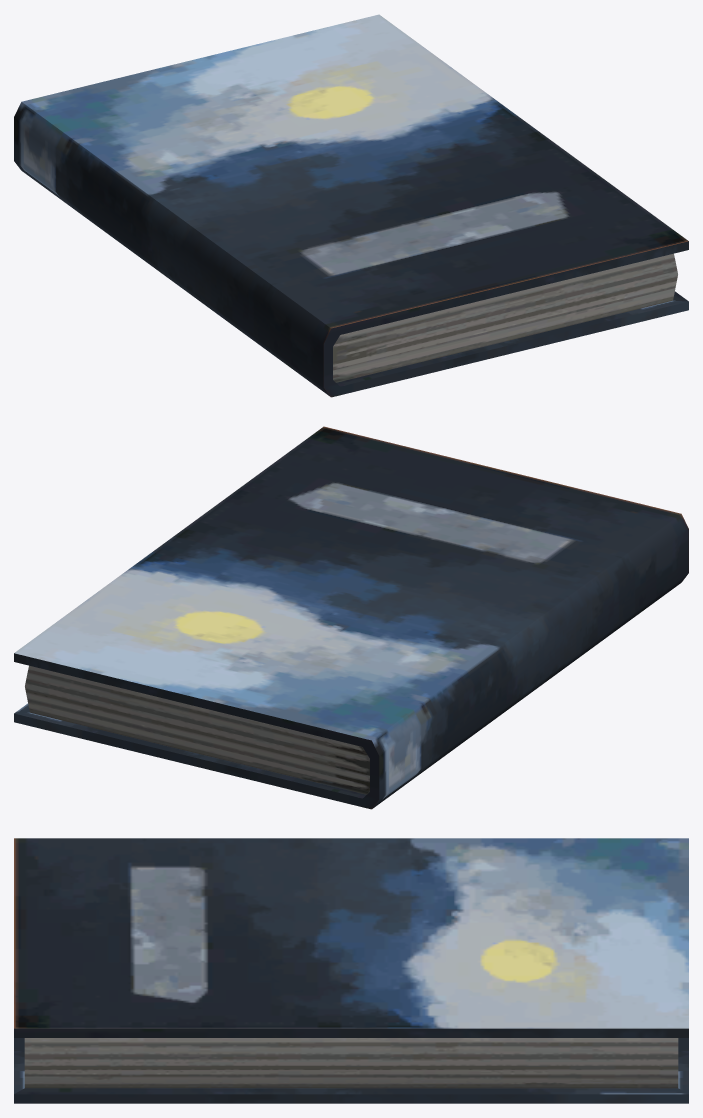
File: GEAR_BookA.glb
3 views of the same model, one above another, from view 1: azimuth 30°, elevation 25°; view 2: azimuth 150°, elevation 25°; view 3: azimuth 270°, elevation 25° (orthographic). The views are drawn at different scales.
Visible parts, largest first — view 1: BookA_LOD0; view 2: BookA_LOD0; view 3: BookA_LOD0.
Part boxes in pixels (x1,y1,x2,y2): BookA_LOD0: [14, 14, 688, 397]; BookA_LOD0: [14, 426, 688, 809]; BookA_LOD0: [14, 838, 688, 1103].
Bounding box in the file's own units: 0.2458 × 0.0444 × 0.3612.
1 material, 1 textured.
